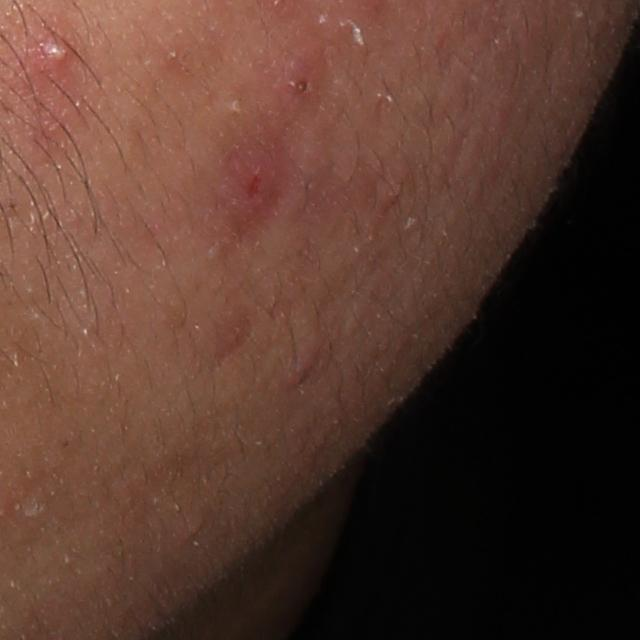papule: (269, 39, 330, 108), (228, 160, 288, 221), (283, 334, 325, 392)
pustule: (27, 19, 82, 74)
